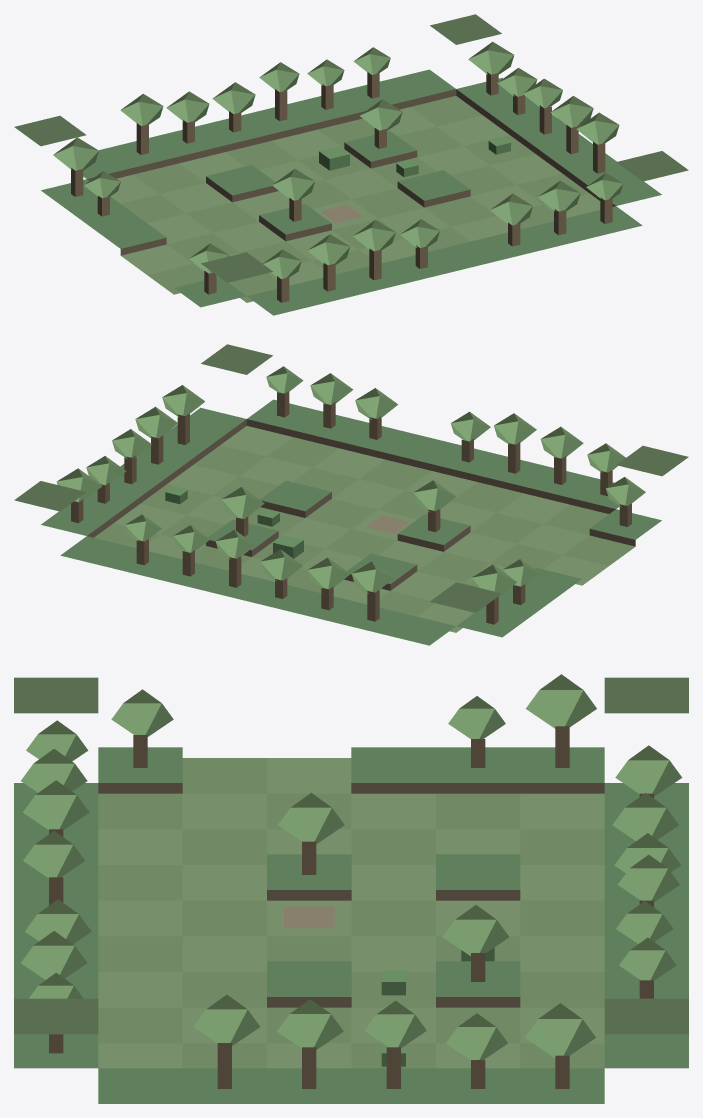
3 renders of one model, top to bottom at view 1: azimuth 30°, elevation 25°; view 2: azimuth 150°, elevation 25°; view 3: azimuth 270°, elevation 25°, orthographic. The views are drawn at different scales.
Parts seen in each view (by area): view 1: mesh0; view 2: mesh0; view 3: mesh0.
Boxes of the visible parts, x1,y1,x2,y2 form: mesh0: (14,14,688,315); mesh0: (14,344,688,645); mesh0: (14,674,688,1103).
Size of the model in its own units: 10 by 1.34 by 8.
